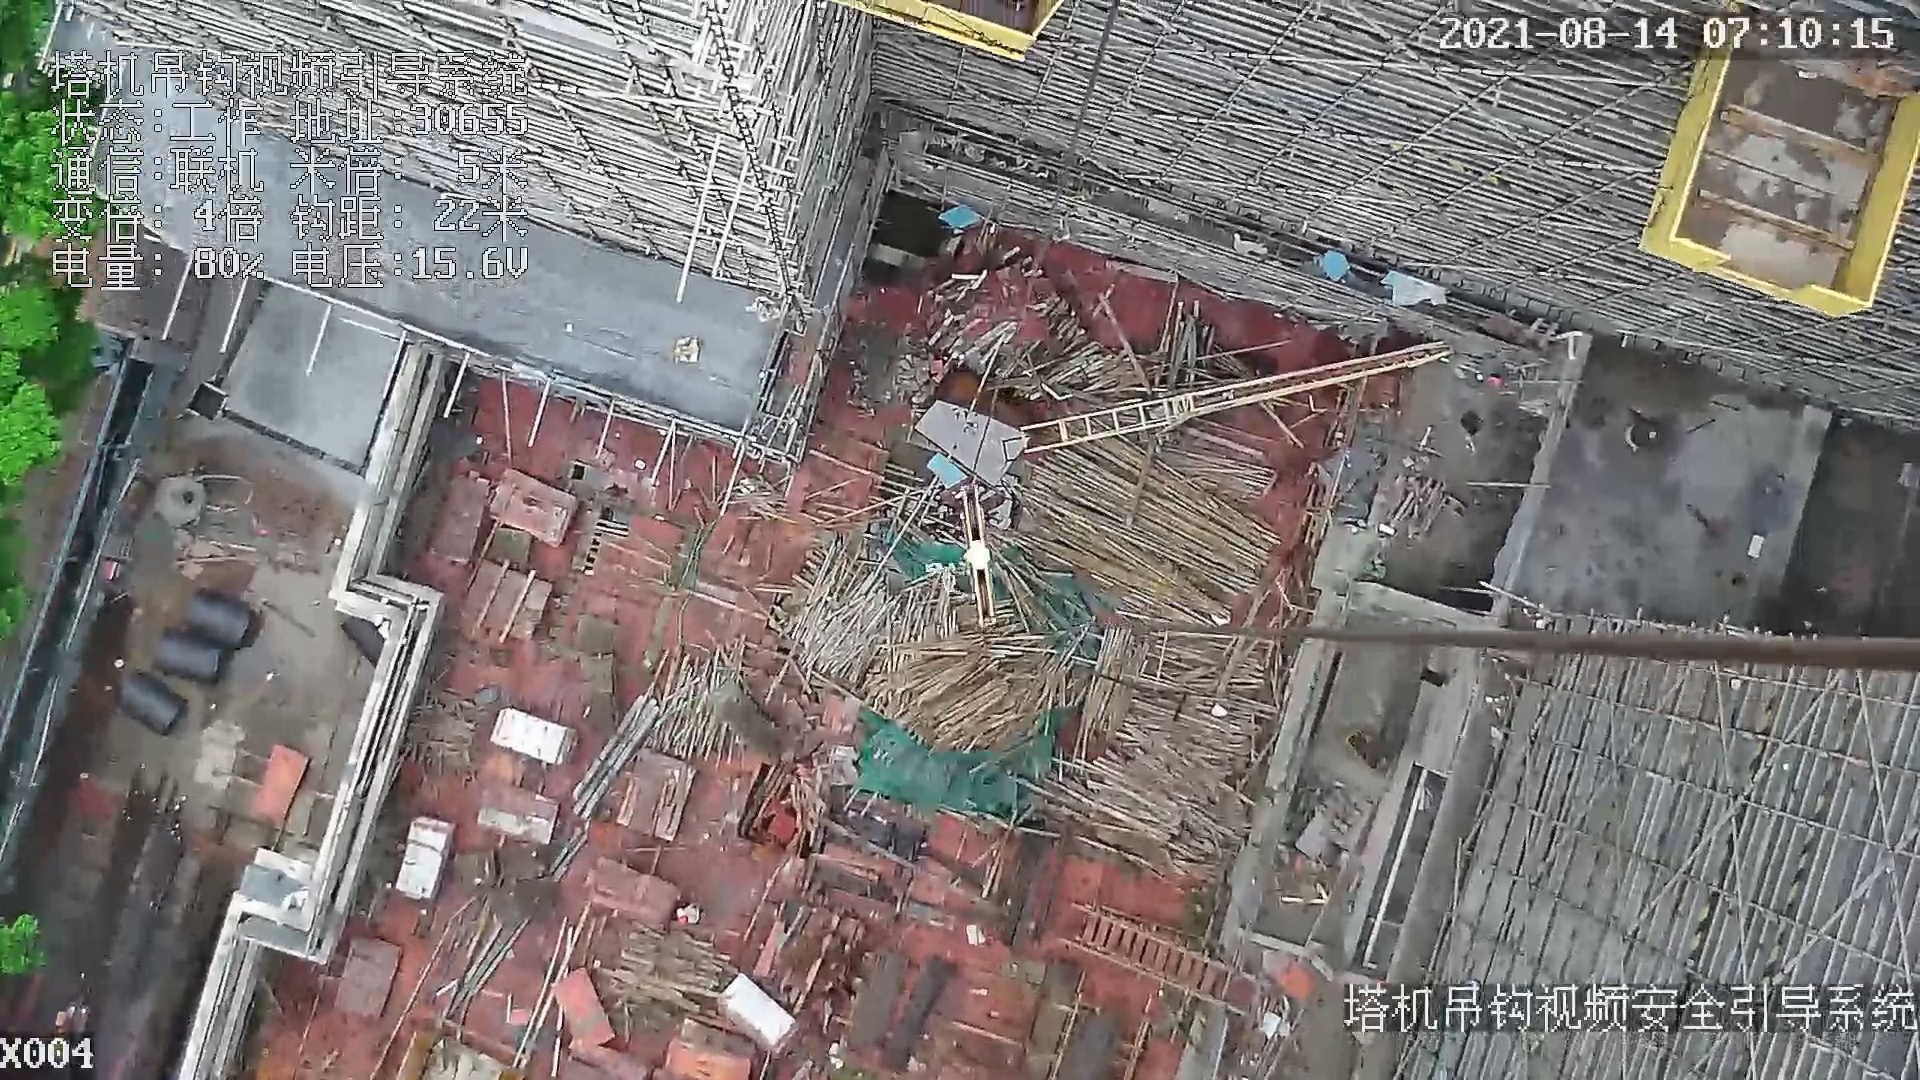helmet: (680, 916, 688, 926)
hook: (946, 481, 1000, 624)
person: (674, 896, 703, 928)
